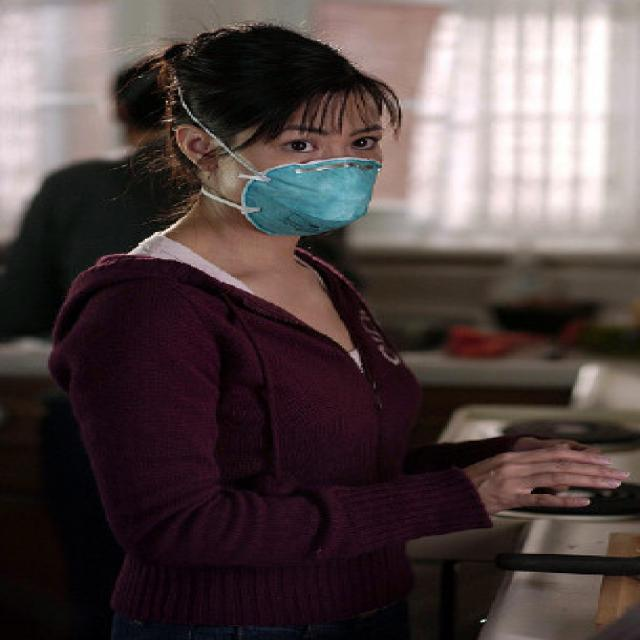mask: (220, 82, 384, 229)
